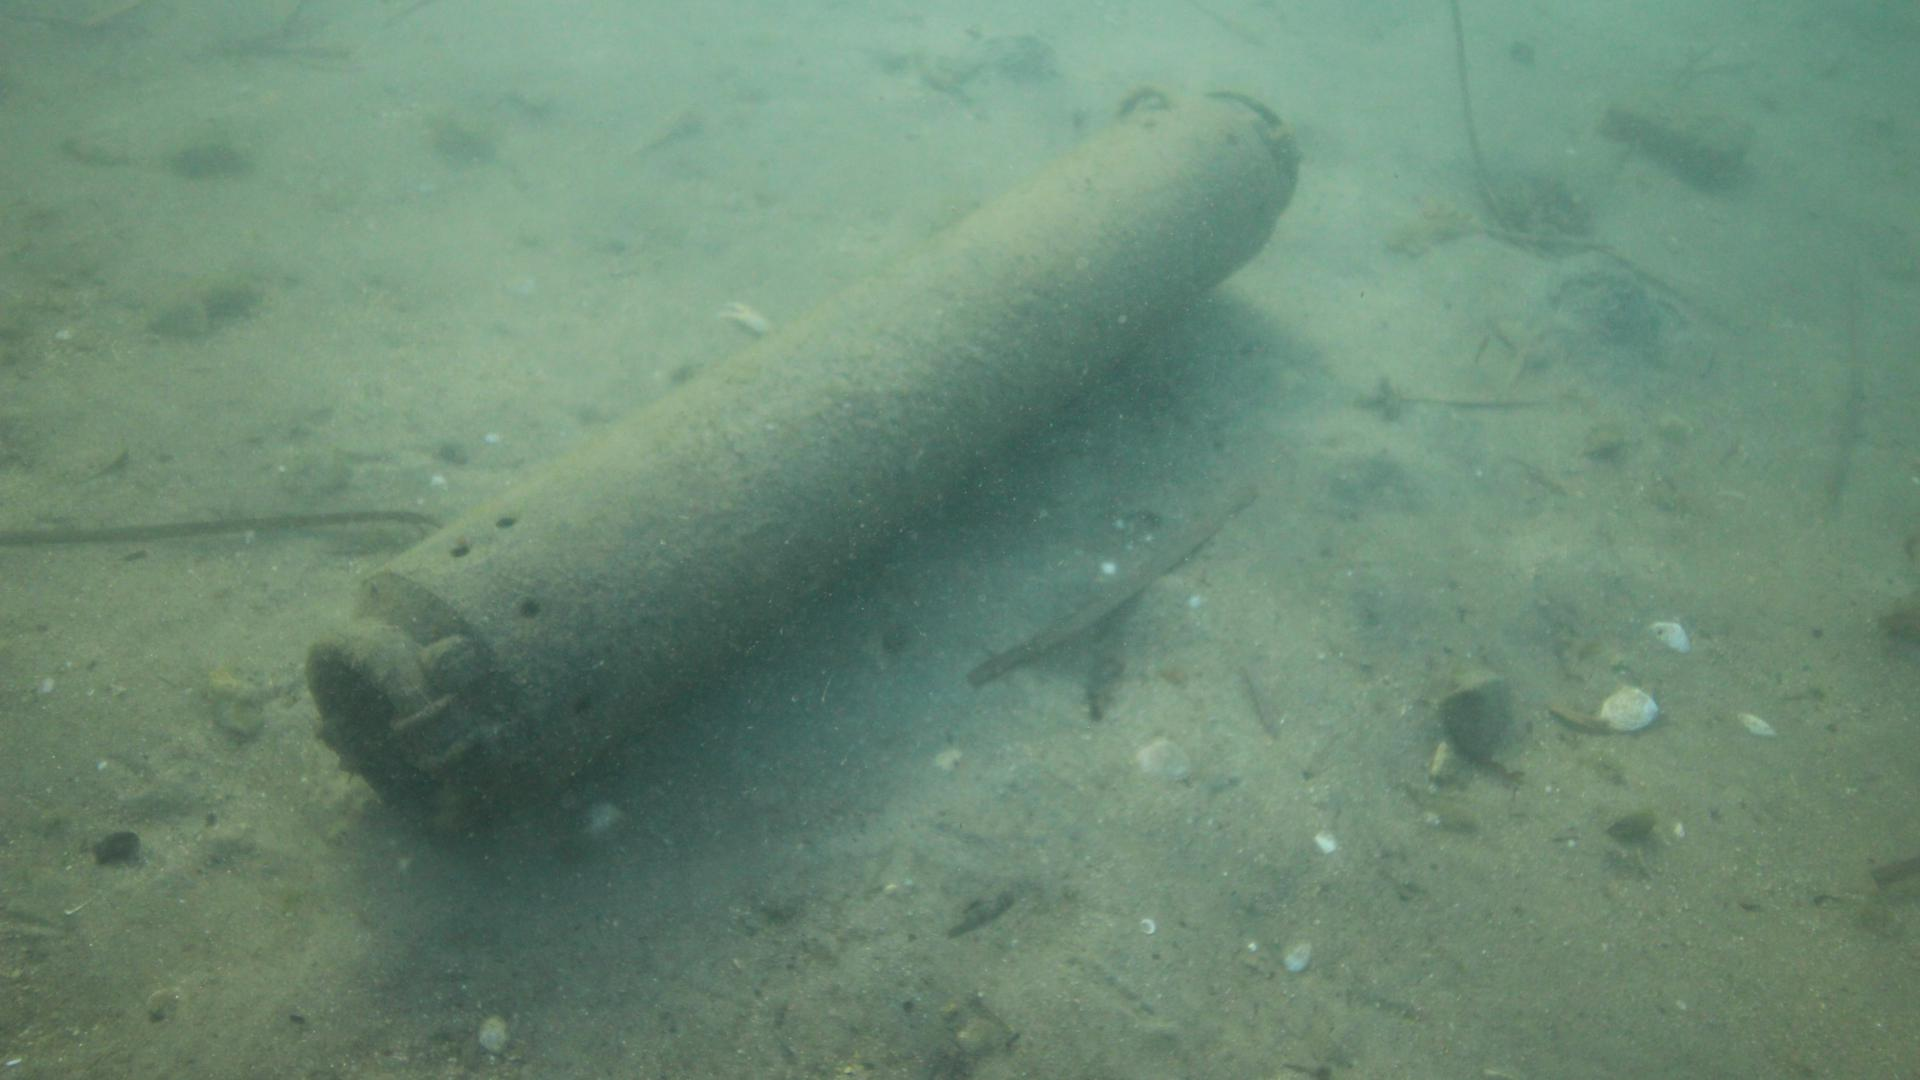eel fish trap: (305, 84, 1292, 833)
